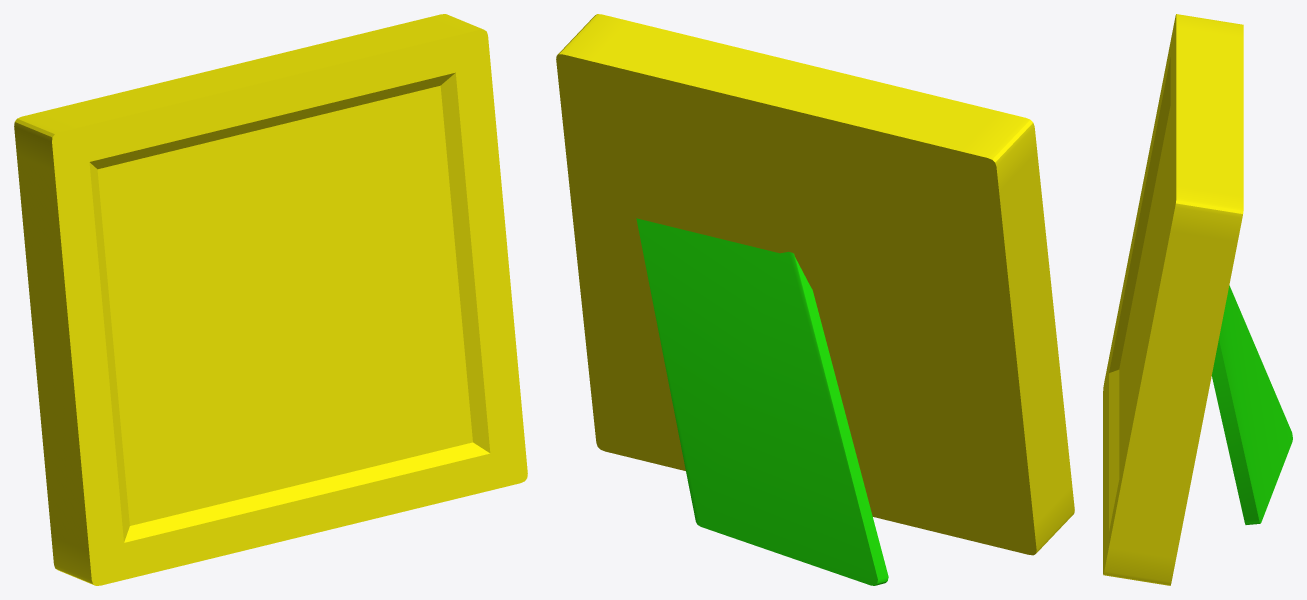
File: umgebung_bilderrahmen_tisch_low.FBX
3 views of the same model, side by side, from view 1: azimuth 30°, elevation 25°; view 2: azimuth 150°, elevation 25°; view 3: azimuth 270°, elevation 25° (orthographic). The views are drawn at different scales.
Visible parts, largest first — view 1: o_bilderrahmen_staender_low; view 2: o_bilderrahmen_staender_low, o_staender_low; view 3: o_bilderrahmen_staender_low, o_staender_low.
Part boxes in pixels (x1,y1,x2,y2): o_bilderrahmen_staender_low: (14,14,527,585); o_bilderrahmen_staender_low: (556,14,1074,555); o_staender_low: (636,218,888,585); o_bilderrahmen_staender_low: (1103,14,1243,585); o_staender_low: (1211,285,1292,524).
Bounding box in the file's own units: 61.32 × 25.98 × 59.08.
